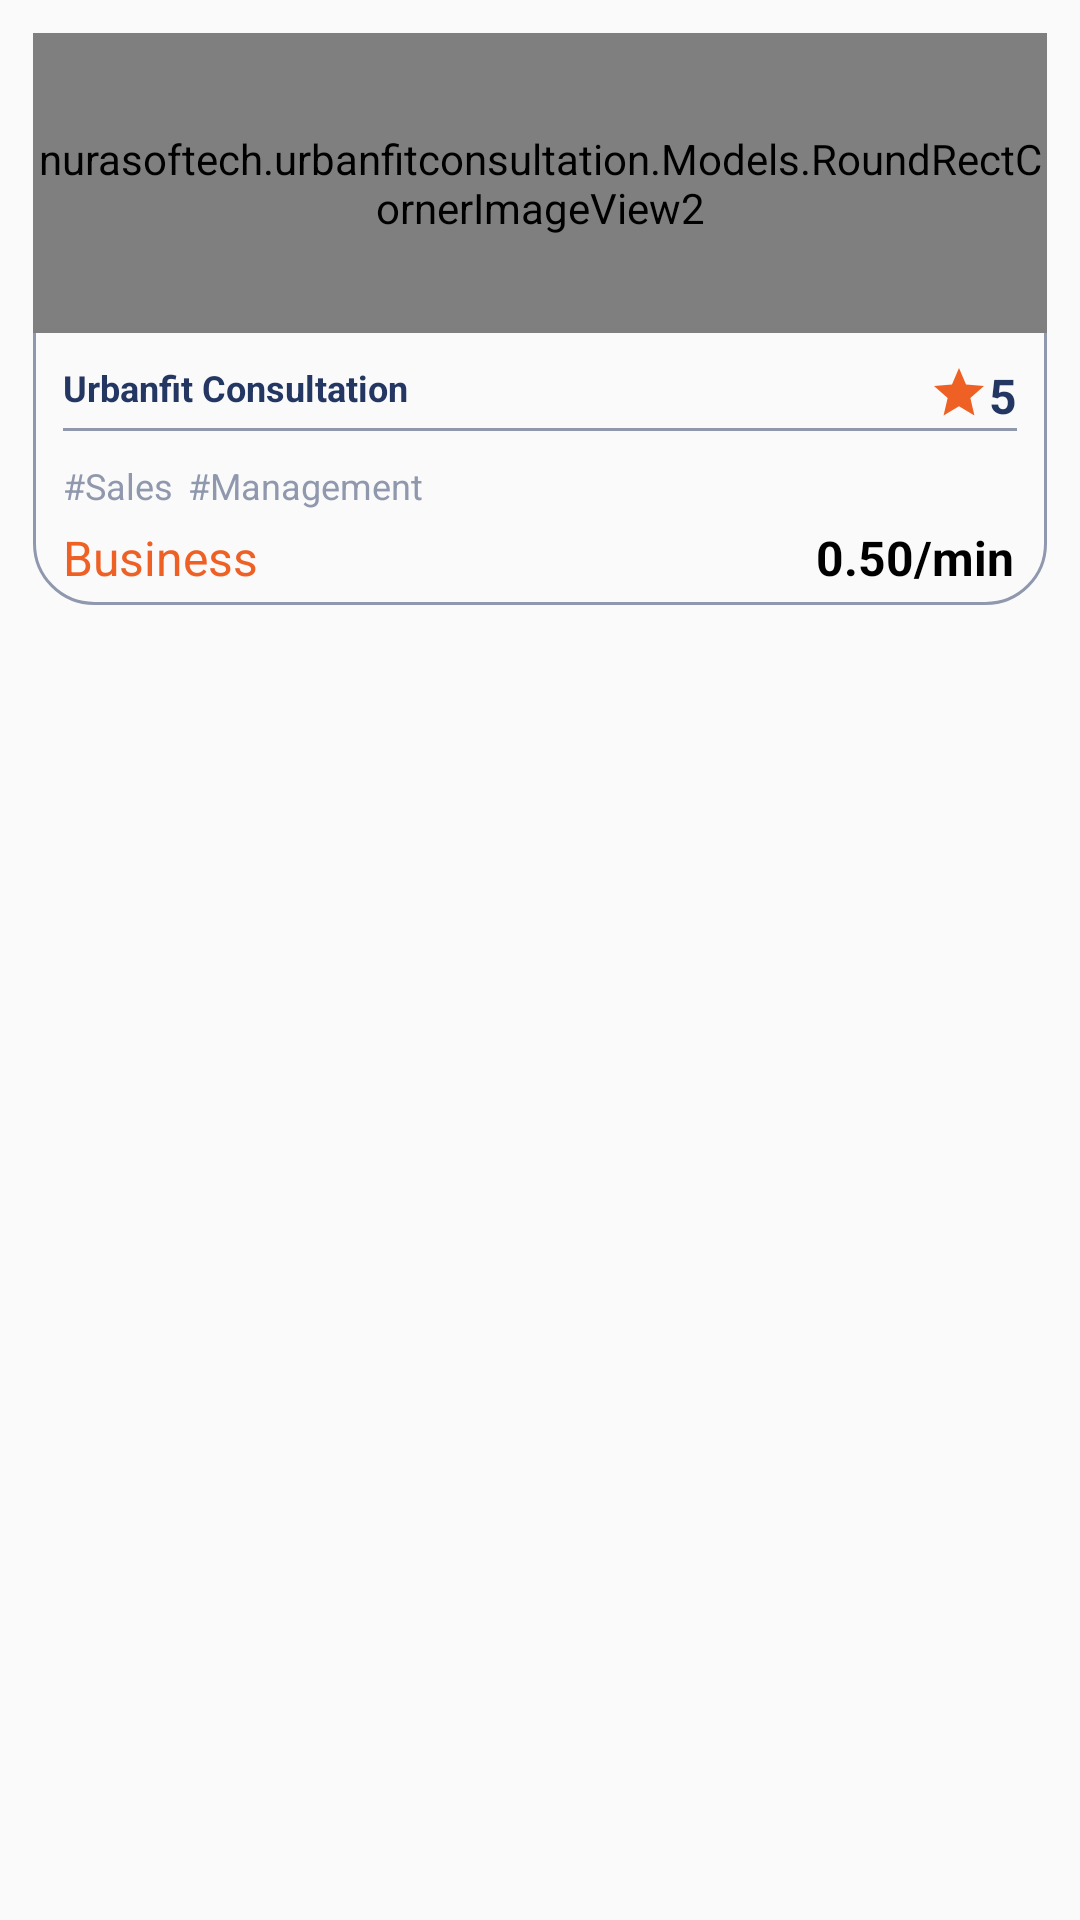

Locate icon controls on the screen. Image size 1080×1920, boxes as (x1, y1, x2, y2).
star: (934, 368, 984, 416)
